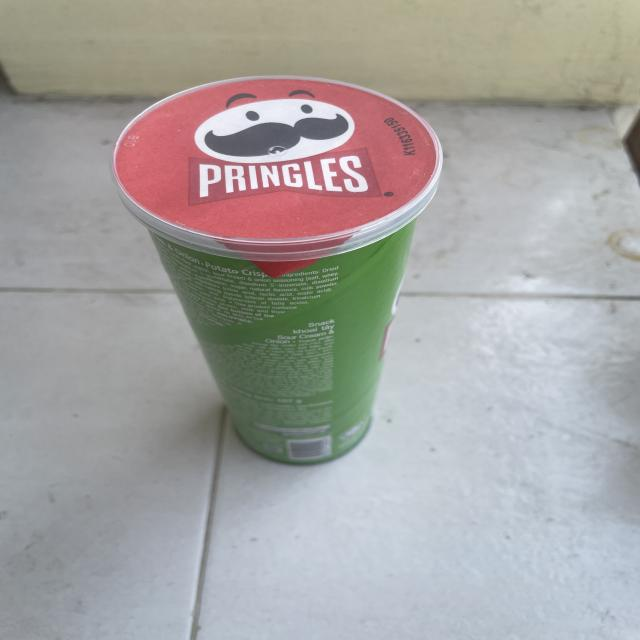a pringles: (113, 69, 448, 468)
